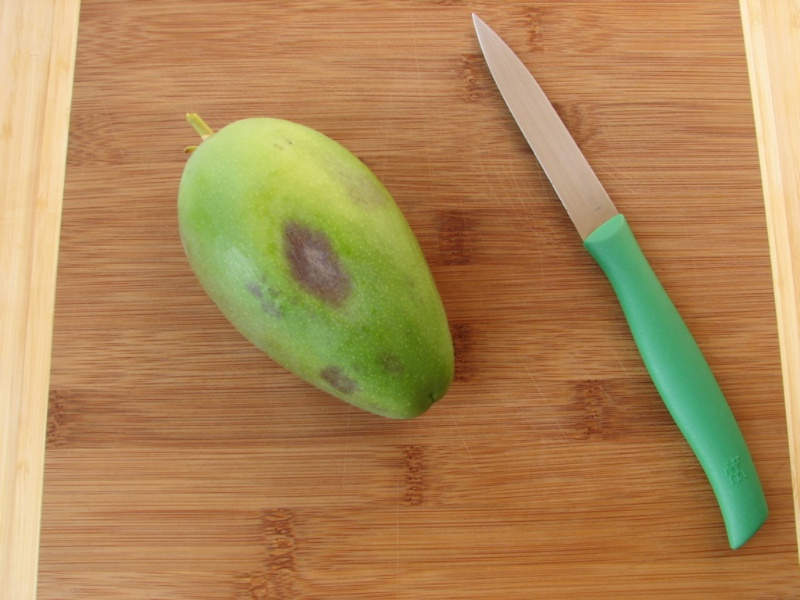knife: (465, 8, 785, 555)
